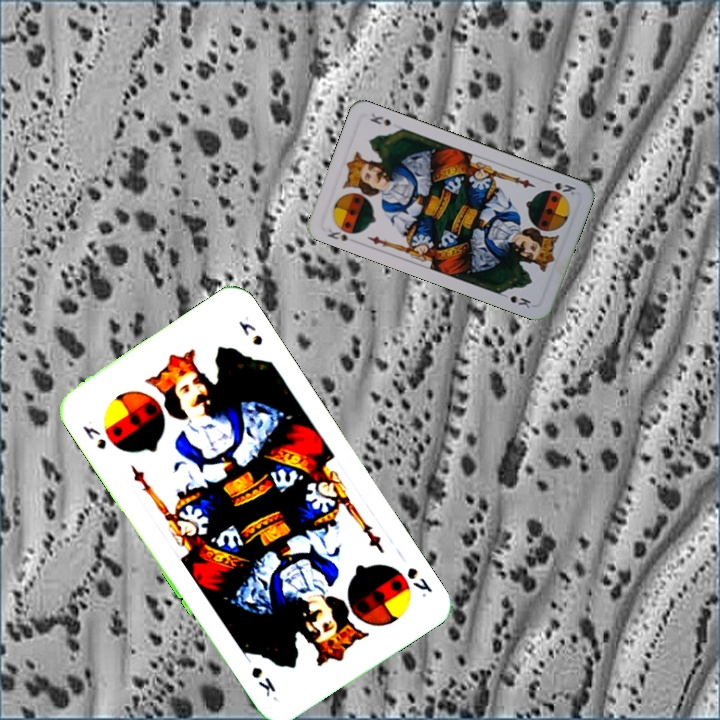SK: (402, 563, 435, 600), (78, 421, 109, 452), (323, 224, 360, 246), (550, 178, 578, 198)
